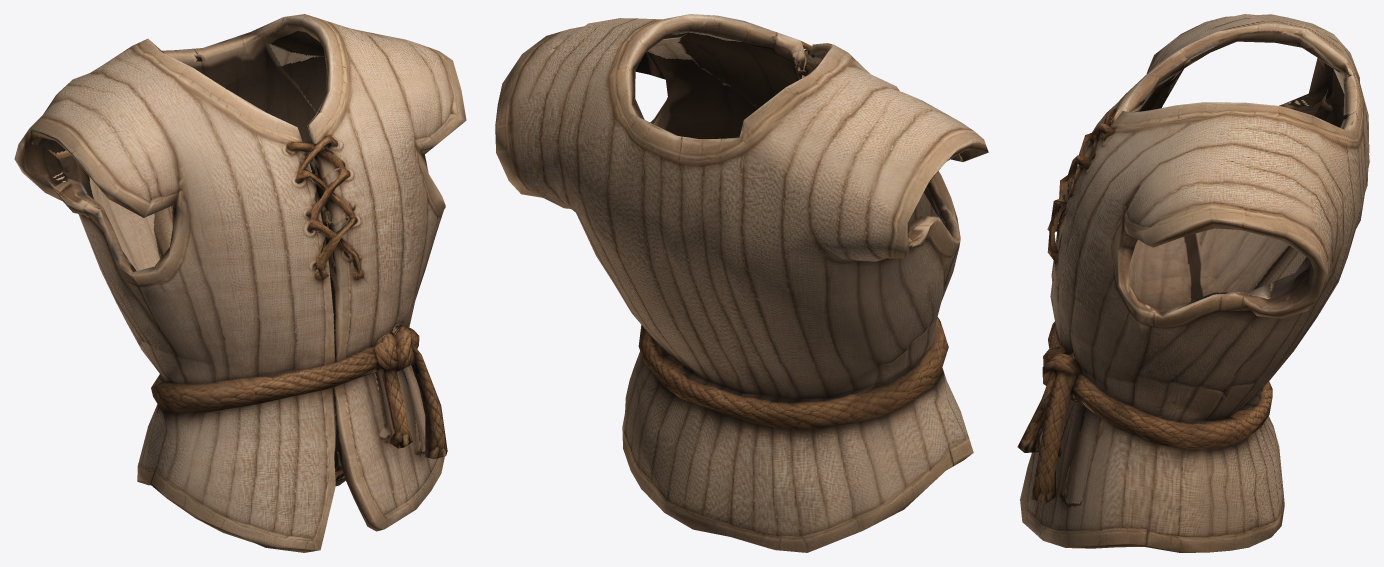
File: Item_ArmorCloth.fbx
3 renders of one model, left to right at view 1: azimuth 30°, elevation 25°; view 2: azimuth 150°, elevation 25°; view 3: azimuth 270°, elevation 25°, orthographic. The views are drawn at different scales.
Visible parts, largest first — view 1: texture_mapping; view 2: texture_mapping; view 3: texture_mapping.
Part boxes in pixels (left/top/right/bottom): texture_mapping: left=14, top=14, right=466, bottom=552; texture_mapping: left=495, top=14, right=988, bottom=552; texture_mapping: left=1017, top=14, right=1369, bottom=552.
Size of the model in its own units: 0.9364 by 0.7017 by 0.9994.
Materials: 1 (1 with a texture image).
